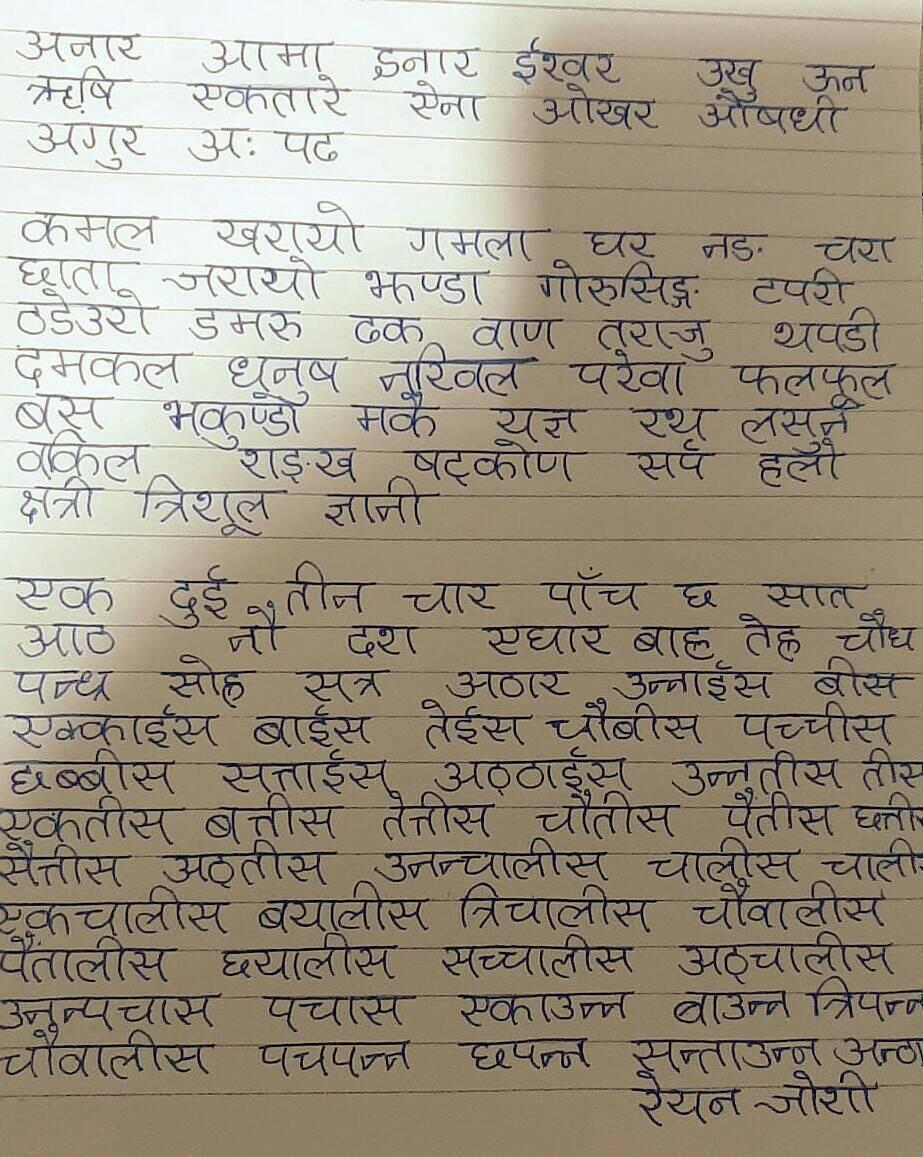text: (1, 883, 236, 944), (1, 1023, 231, 1083), (453, 873, 657, 935), (375, 835, 619, 883), (1, 984, 229, 1034), (6, 704, 224, 756), (625, 1025, 832, 1078), (133, 472, 289, 542), (1, 933, 185, 992), (676, 927, 860, 984), (207, 201, 382, 260), (250, 882, 435, 937), (686, 80, 857, 139), (215, 928, 408, 980), (525, 264, 714, 317), (456, 978, 638, 1033), (671, 746, 851, 801), (436, 933, 642, 981), (682, 880, 855, 937), (434, 750, 639, 798), (16, 196, 173, 258), (9, 338, 189, 392), (378, 345, 545, 403), (729, 697, 905, 752), (257, 978, 424, 1035), (162, 246, 332, 301), (180, 69, 352, 123), (6, 747, 181, 800), (7, 282, 161, 342), (253, 1027, 418, 1083), (152, 843, 338, 892), (404, 438, 593, 486), (217, 753, 405, 801), (543, 699, 713, 752), (16, 105, 152, 171), (154, 393, 316, 448), (1, 799, 178, 849), (729, 354, 902, 405), (525, 790, 689, 842), (221, 343, 354, 406), (617, 1066, 749, 1128), (621, 660, 778, 712), (398, 212, 552, 265), (639, 835, 804, 883), (350, 255, 498, 308), (536, 78, 664, 139), (713, 782, 841, 842), (196, 26, 343, 78), (470, 617, 619, 666), (511, 30, 628, 92), (201, 795, 349, 844), (567, 345, 693, 402), (667, 976, 797, 1031), (453, 1027, 596, 1077), (316, 479, 445, 534), (746, 258, 862, 319), (227, 438, 363, 490), (12, 19, 152, 69), (1, 843, 141, 893), (410, 698, 534, 754), (246, 702, 382, 753), (183, 297, 317, 348), (362, 33, 493, 85), (740, 400, 868, 453), (18, 430, 151, 481), (766, 306, 893, 359), (760, 1064, 859, 1131), (590, 313, 726, 360), (372, 797, 503, 845), (25, 60, 137, 115), (806, 652, 917, 707), (280, 557, 374, 621), (9, 383, 118, 438), (6, 565, 118, 618), (448, 660, 577, 705), (622, 394, 724, 449), (538, 570, 652, 619), (155, 649, 250, 707), (483, 393, 590, 444), (816, 217, 905, 276), (393, 80, 496, 130), (398, 572, 505, 620), (284, 662, 398, 707), (758, 571, 869, 617), (750, 439, 850, 490), (16, 616, 122, 664), (349, 394, 448, 445), (266, 119, 357, 174), (673, 46, 777, 94), (836, 606, 922, 664), (9, 663, 124, 706), (9, 251, 134, 290), (156, 566, 239, 624), (626, 616, 722, 666), (689, 219, 782, 269), (463, 313, 572, 355), (180, 112, 264, 165), (629, 440, 719, 489), (821, 842, 923, 885), (733, 608, 810, 664), (577, 219, 671, 264), (17, 472, 98, 523), (344, 302, 430, 350), (336, 615, 427, 660), (852, 787, 923, 842), (856, 743, 923, 798), (800, 53, 880, 99), (229, 601, 286, 662), (668, 573, 728, 615)
